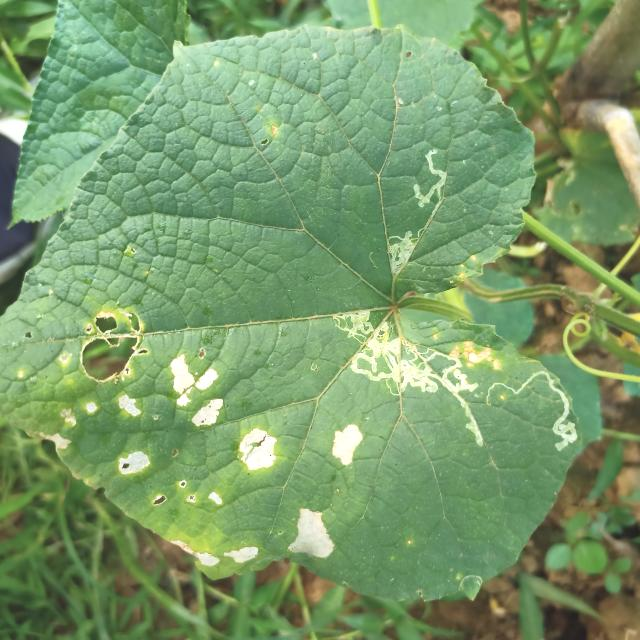disease_cucumber: (35, 307, 334, 565), (327, 414, 369, 470)
